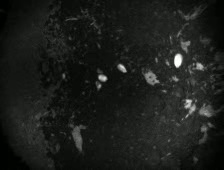corn: (172, 52, 184, 70), (114, 61, 128, 75), (96, 72, 109, 83), (93, 79, 103, 90), (60, 70, 68, 80)
